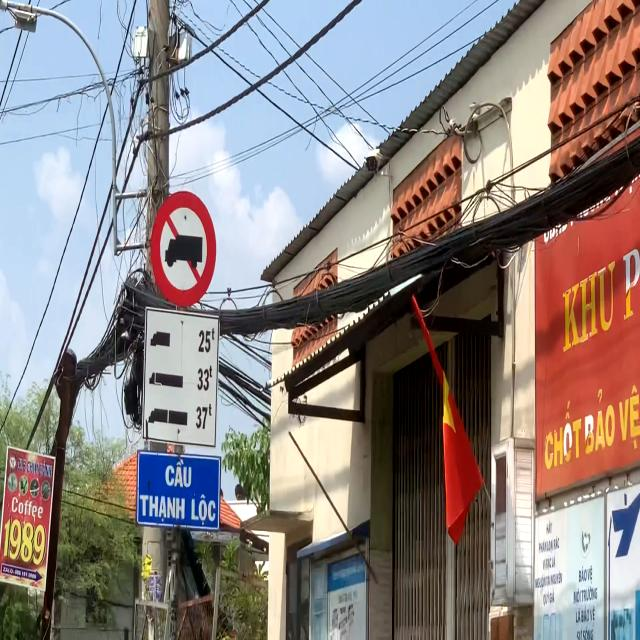P.106a: (150, 179, 219, 304)
